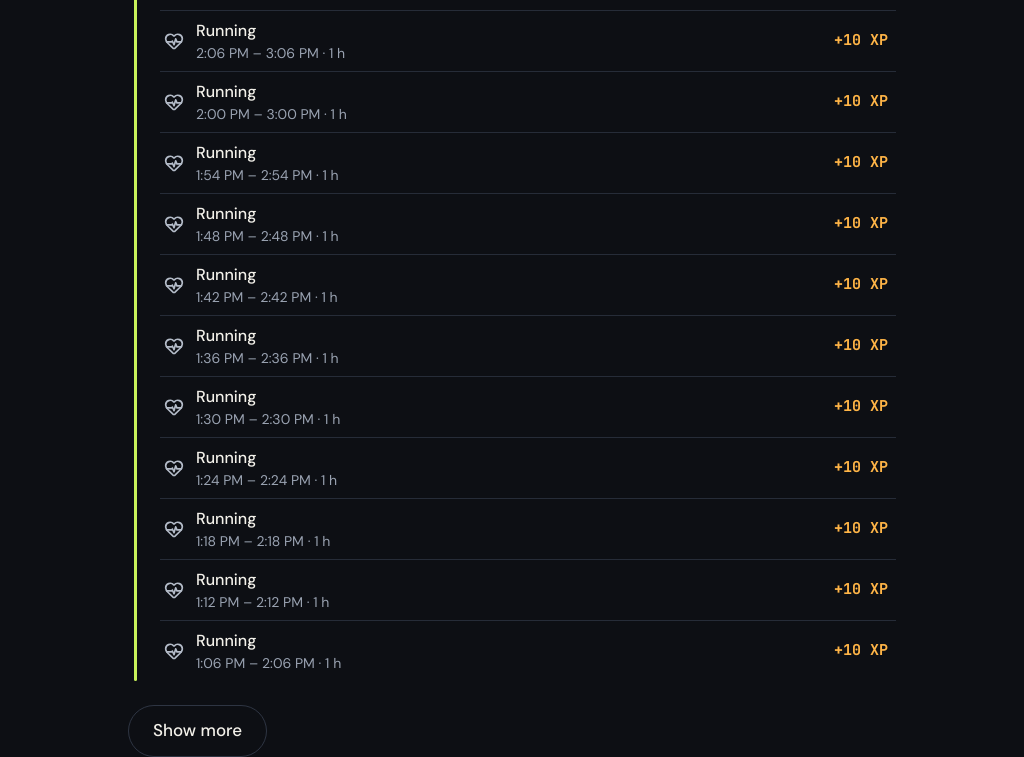
Test: History — the list › shows 50 more with Show more until the last page
(page scrolled)
Click the button "Show more". click: (198, 731)
box: [128,705,267,756]
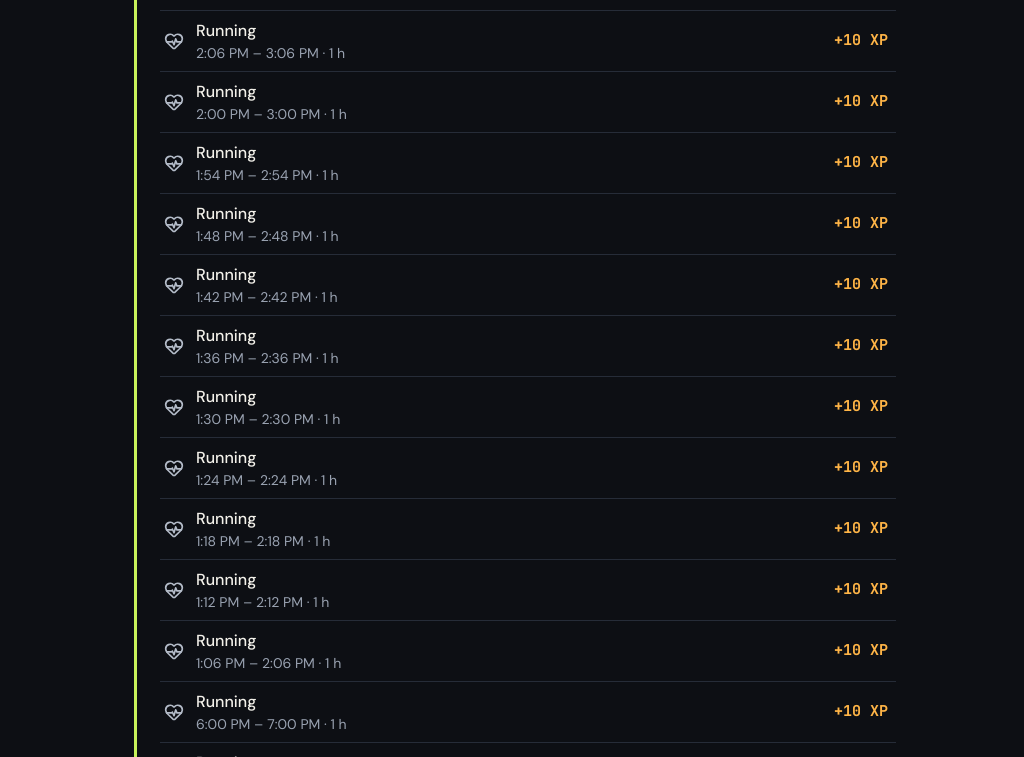
Expected: the button "Show more" is gone
